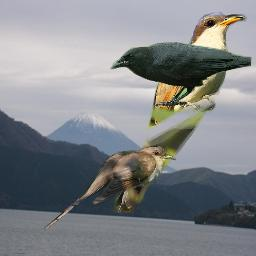Crow: (110, 42, 252, 108)
Cuckoo: (111, 9, 248, 217), (44, 145, 176, 231)
